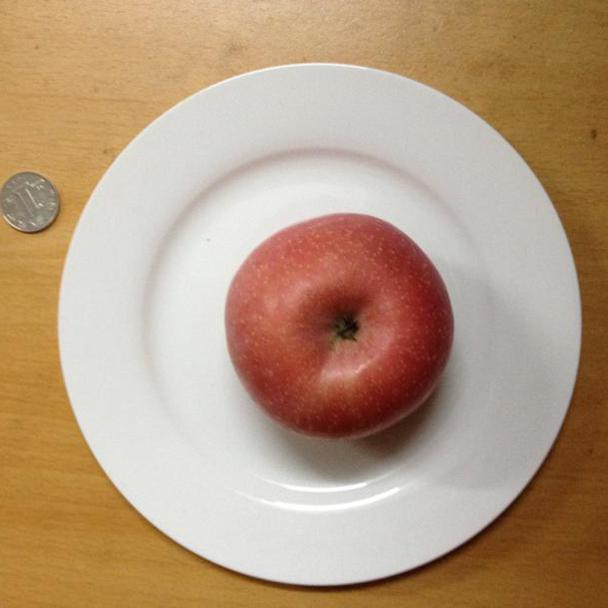apple: (223, 212, 453, 439)
